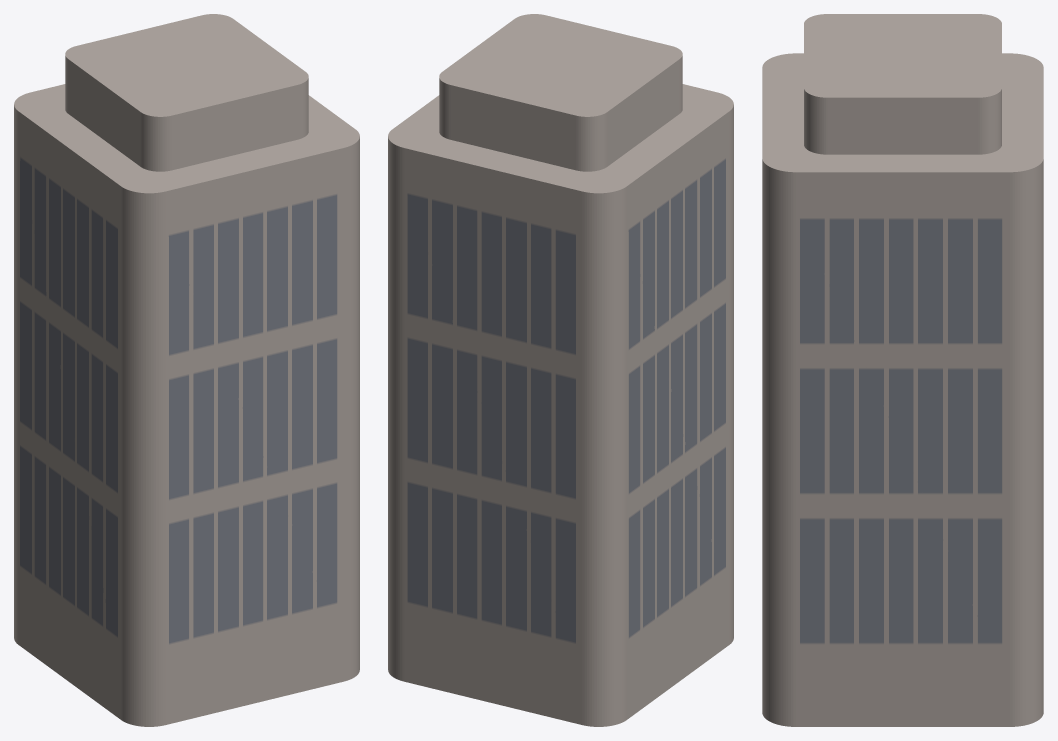
File: Building5.fbx
The picture shows the model from 3 angles, left to right: view 1: azimuth 30°, elevation 25°; view 2: azimuth 150°, elevation 25°; view 3: azimuth 270°, elevation 25°; orthographic projection. The views are drawn at different scales.
Parts seen in each view (by area): view 1: b5.001, b5.002; view 2: b5.001, b5.002; view 3: b5.001, b5.002.
Part boxes in pixels (x1=…): b5.001: x1=14, y1=84, x2=359, y2=726; b5.002: x1=65, y1=14, x2=308, y2=171; b5.001: x1=388, y1=84, x2=733, y2=726; b5.002: x1=439, y1=14, x2=682, y2=171; b5.001: x1=762, y1=53, x2=1043, y2=726; b5.002: x1=804, y1=14, x2=1001, y2=154.
Bounding box in the file's own units: 10 × 24 × 10.
